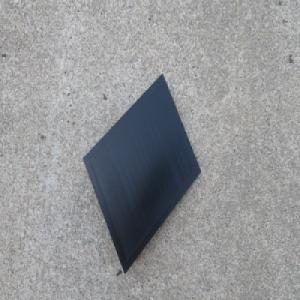PlasticPart: (82, 71, 201, 276)
